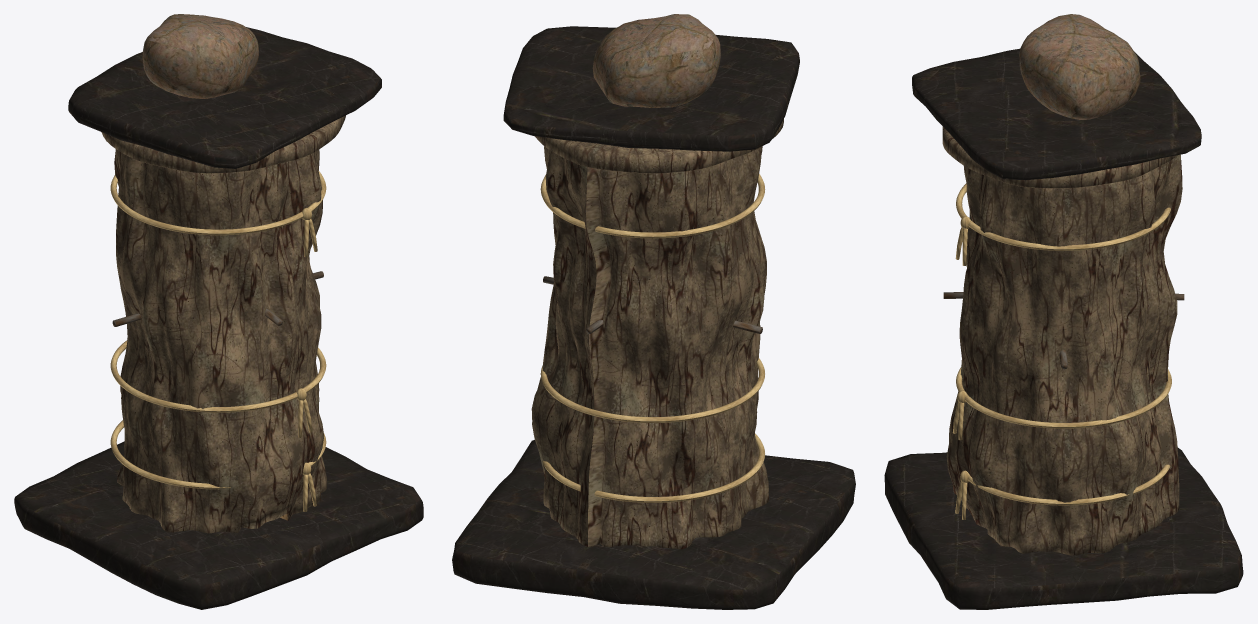
File: colmena_corcho.glb
The picture shows the model from 3 angles, left to right: view 1: azimuth 30°, elevation 25°; view 2: azimuth 150°, elevation 25°; view 3: azimuth 270°, elevation 25°; orthographic projection. The views are drawn at different scales.
Visible parts, largest first — view 1: Colmena, Tapa; view 2: Colmena, Tapa; view 3: Colmena, Tapa.
Part boxes in pixels (<box>): Colmena: <box>14,149,423,609</box>; Tapa: <box>68,14,381,173</box>; Colmena: <box>452,146,855,609</box>; Tapa: <box>503,14,799,173</box>; Colmena: <box>884,154,1243,609</box>; Tapa: <box>912,14,1201,188</box>.
Size of the model in its own units: 0.6842 by 1.06 by 0.6774.
7 materials, 7 textured.
